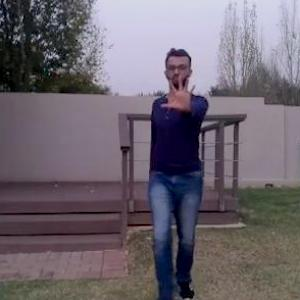follow_hand: (160, 72, 198, 112)
